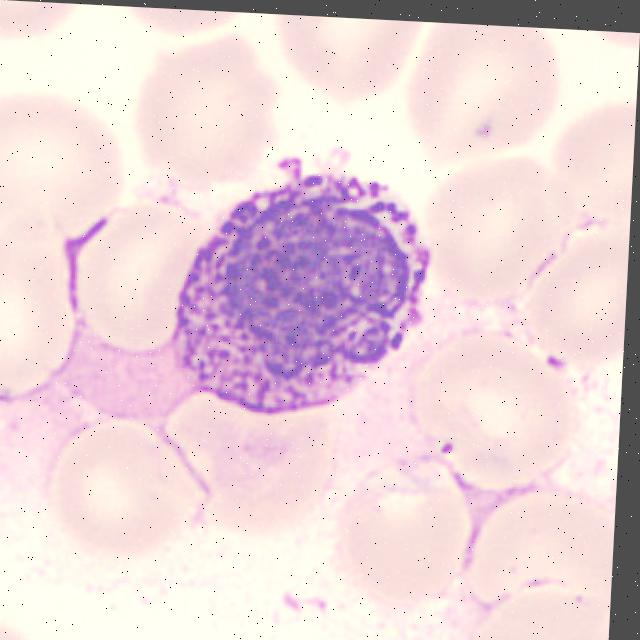basophil: (169, 159, 448, 426)
rbc: (415, 332, 577, 492), (429, 149, 588, 307), (400, 21, 568, 168), (69, 194, 211, 364), (461, 475, 617, 626), (181, 392, 340, 540), (50, 416, 207, 565), (137, 38, 281, 195), (334, 457, 474, 608), (0, 92, 128, 249), (0, 215, 93, 401), (522, 227, 630, 378), (279, 15, 421, 111), (553, 91, 637, 234), (463, 583, 611, 640), (115, 6, 249, 46), (0, 0, 80, 49), (597, 31, 640, 60)
